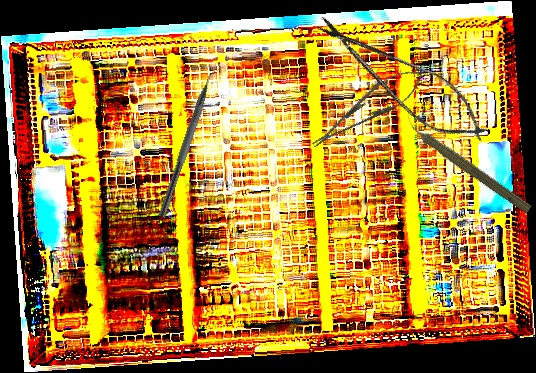Chopper: (157, 61, 227, 222)
Handpiece: (399, 112, 536, 217)
Micro Scissor: (303, 2, 500, 157)
Needle Holder: (304, 57, 432, 159)
